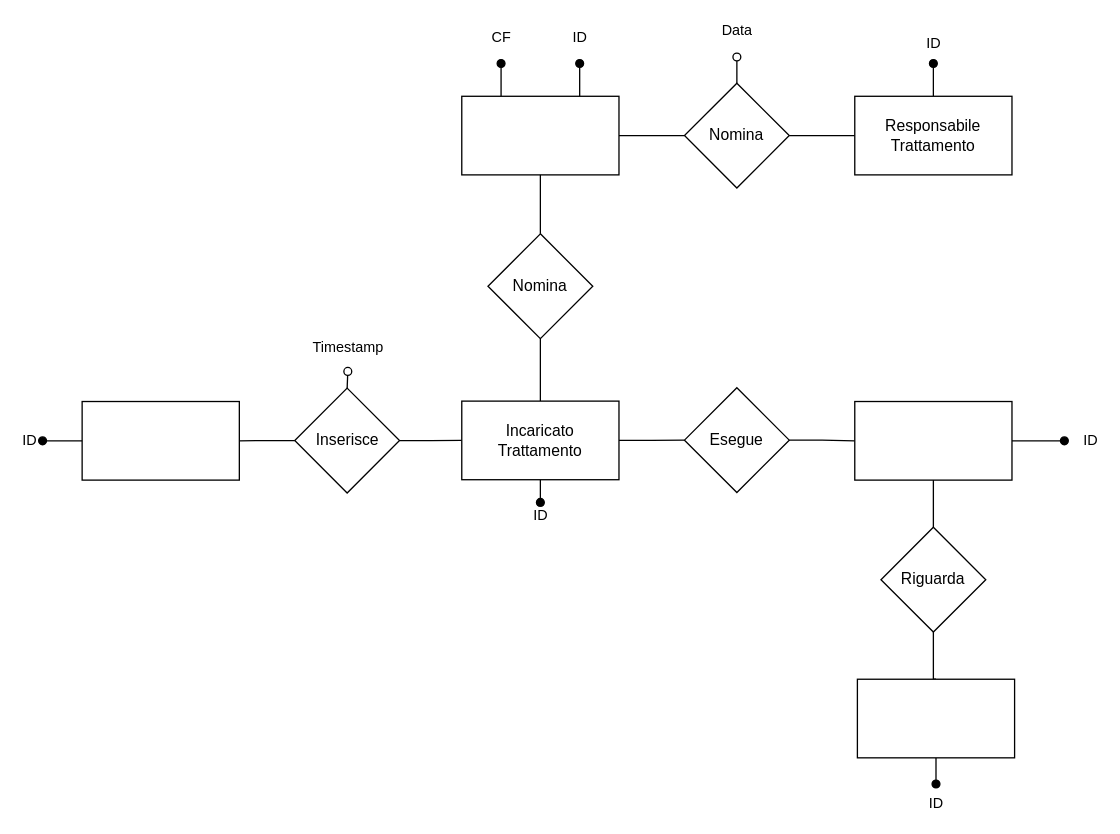
Some shapes in this 1120 by 834 pixel diagram are drawn without their labels. The shapes that lost their labels are listed below. From the top down, each one's box as (x1, y1, x2, y2) in pixels, then its label:
(460, 95, 619, 175): Titolare Trattamento
(81, 400, 239, 480): Evento
(853, 400, 1012, 480): Trattamento
(856, 678, 1015, 758): Categoria Interessati
